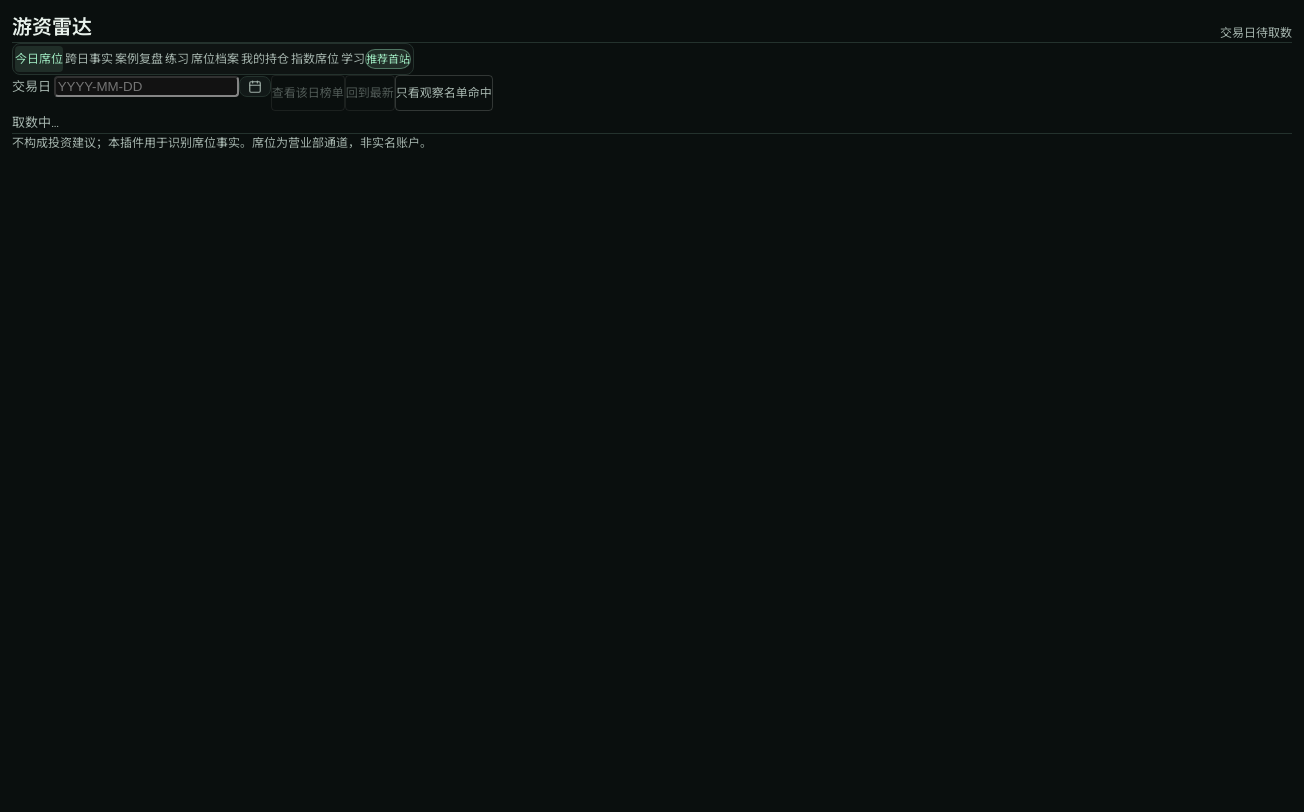
it: YouziPage · 练习（Y4-03/Y4-04） › ★ Y4-04 复盘练习只挑已披露 D1/D2/D5 的样例，并报出筛掉了多少条
The width and height of the screenshot is (1304, 812).
Click the button titled "用真实披露事实做识别与复盘练习" at (177, 59), box [165, 46, 189, 72]
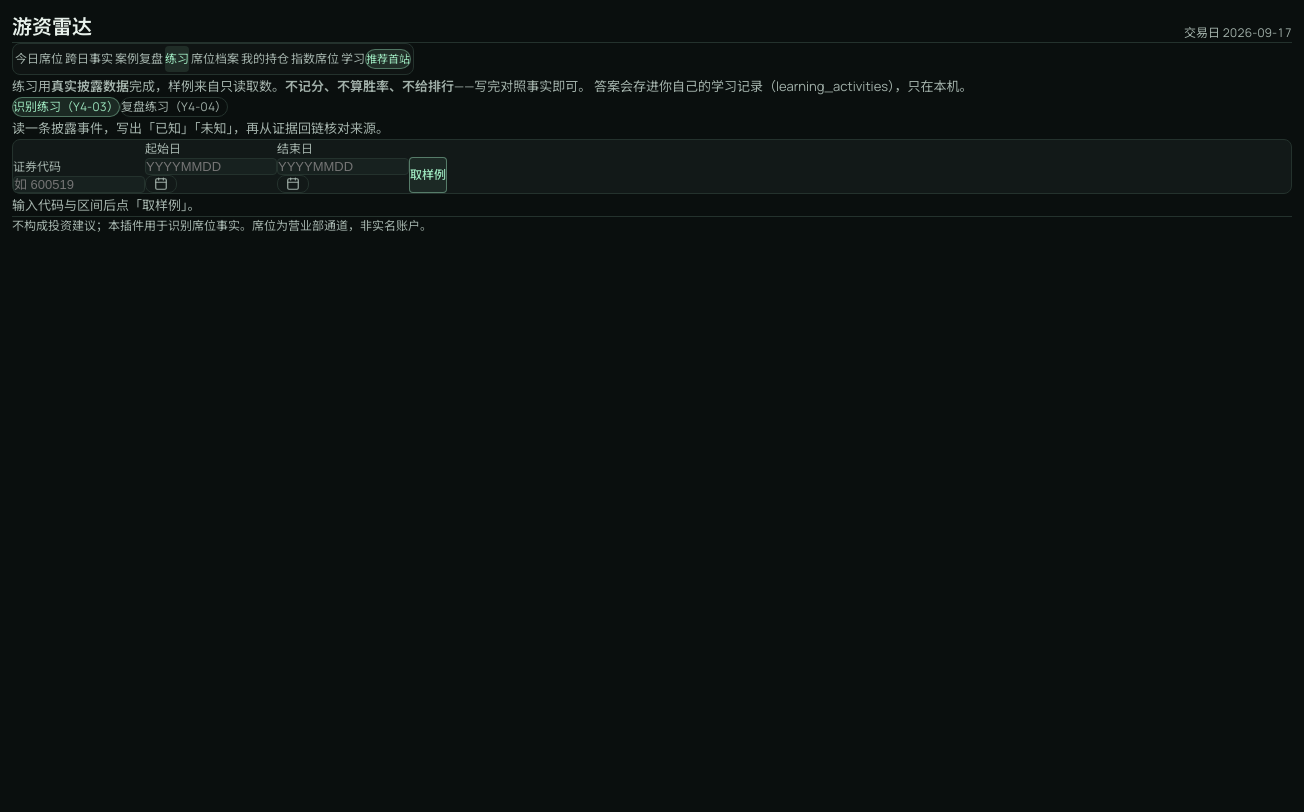
Expected: the button "取样例" is shown, [409, 157, 447, 193]
Type "600519" into the field with placeholder "如 600519" at (79, 185), box [13, 176, 145, 193]
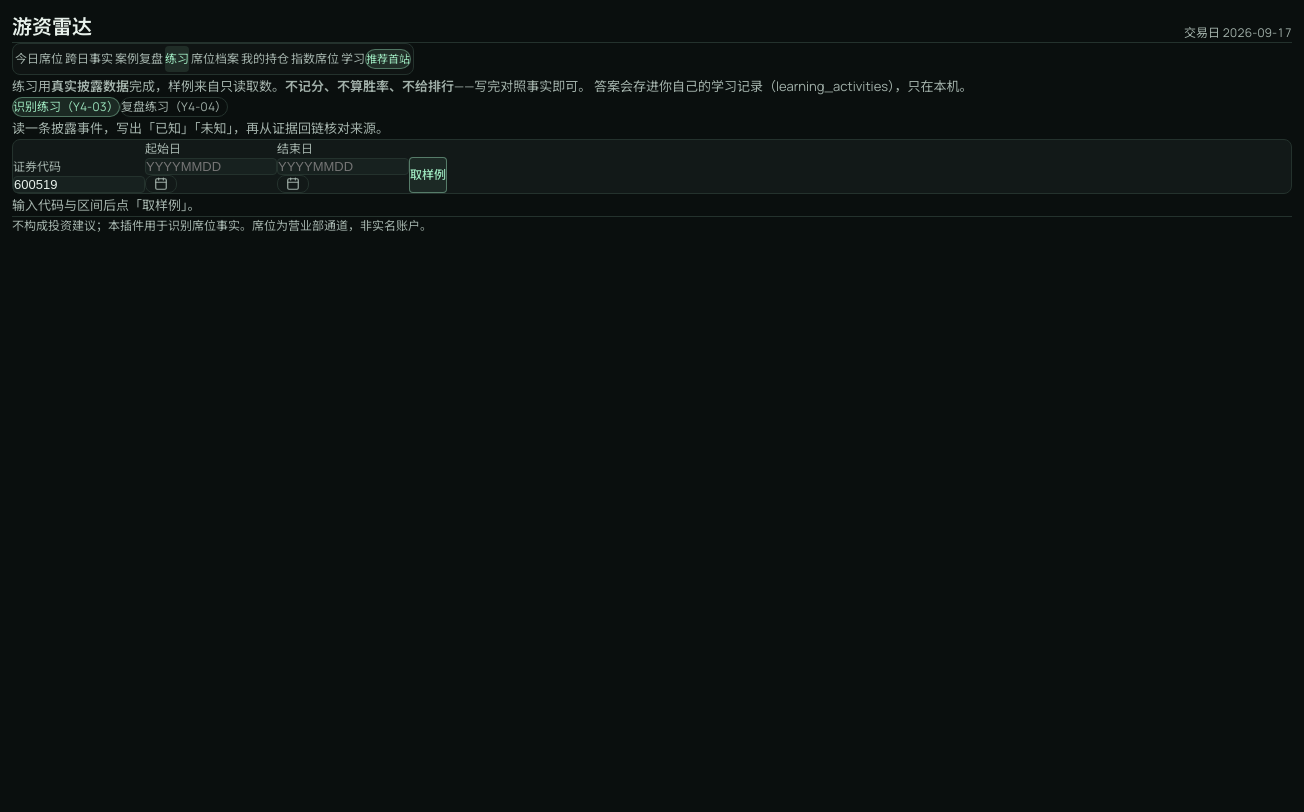
Type "20260907" into the field with placeholder "YYYYMMDD" at (211, 167), box [145, 158, 277, 175]
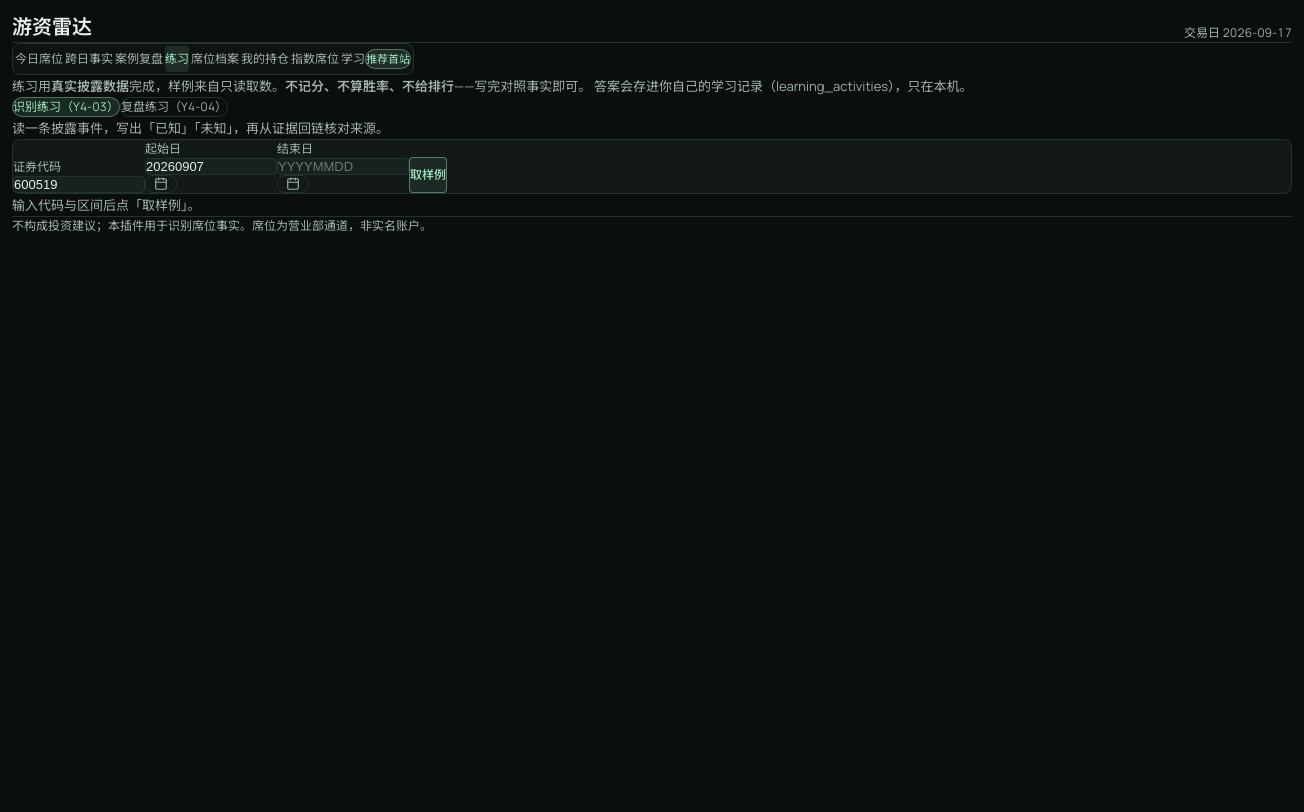
Type "20260917" into the field with placeholder "YYYYMMDD" at (343, 167), box [277, 158, 409, 175]
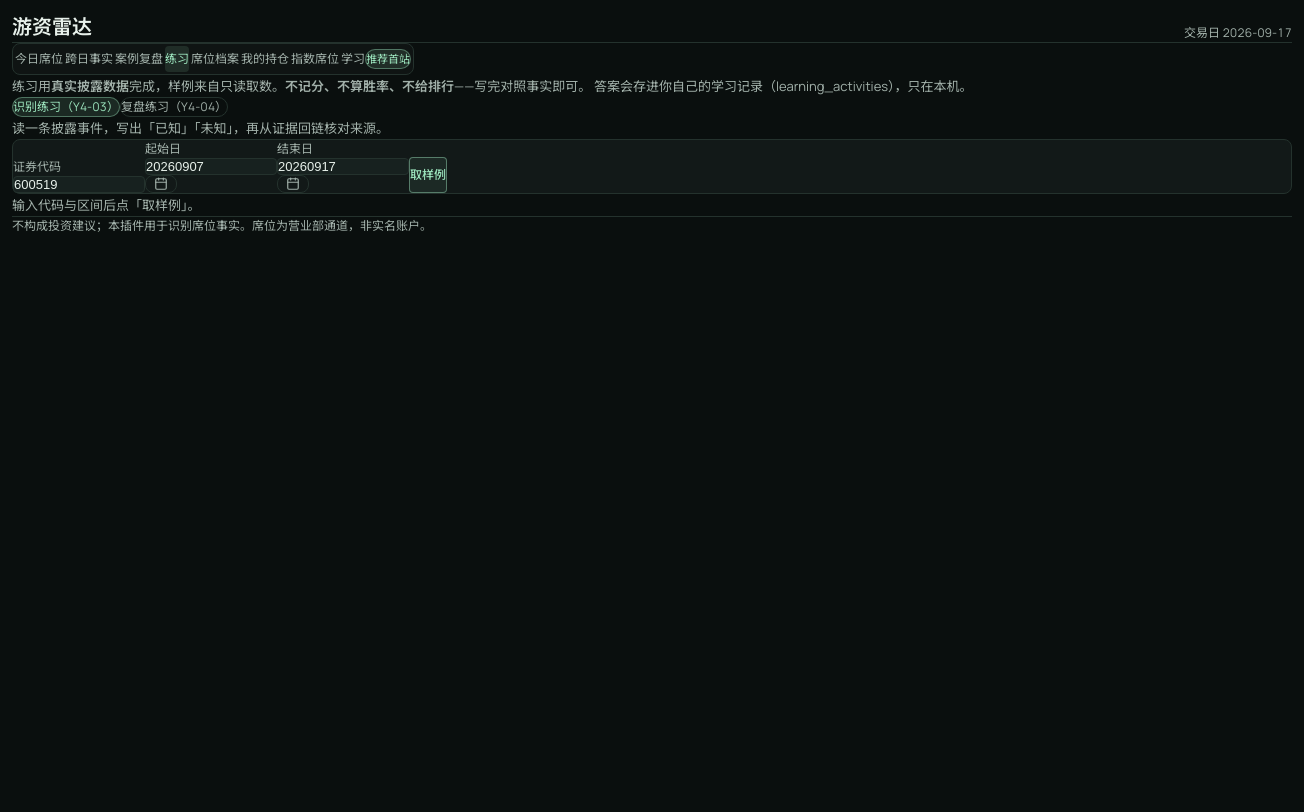
Click the button "取样例" at (428, 175), box [409, 157, 447, 193]
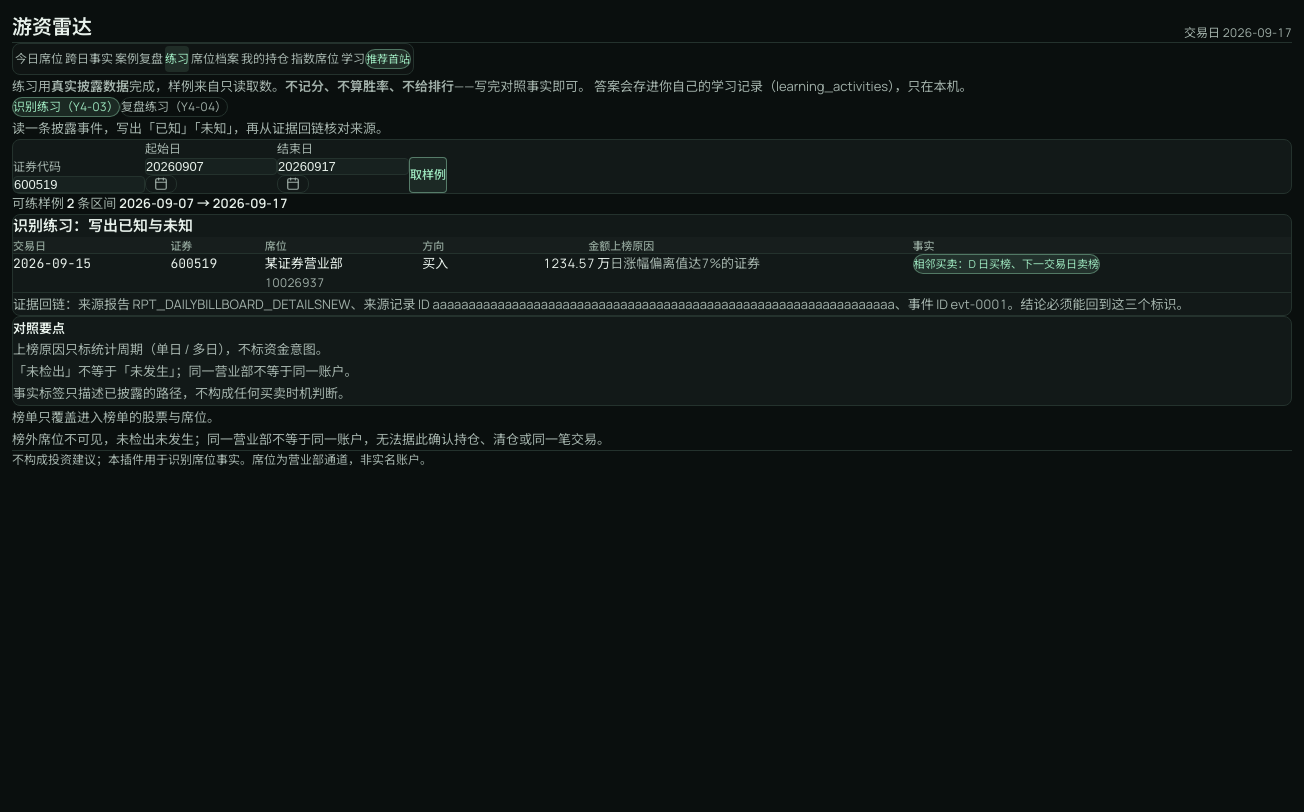
Click the button "复盘练习（Y4-04）" at (174, 107), box [120, 97, 228, 117]
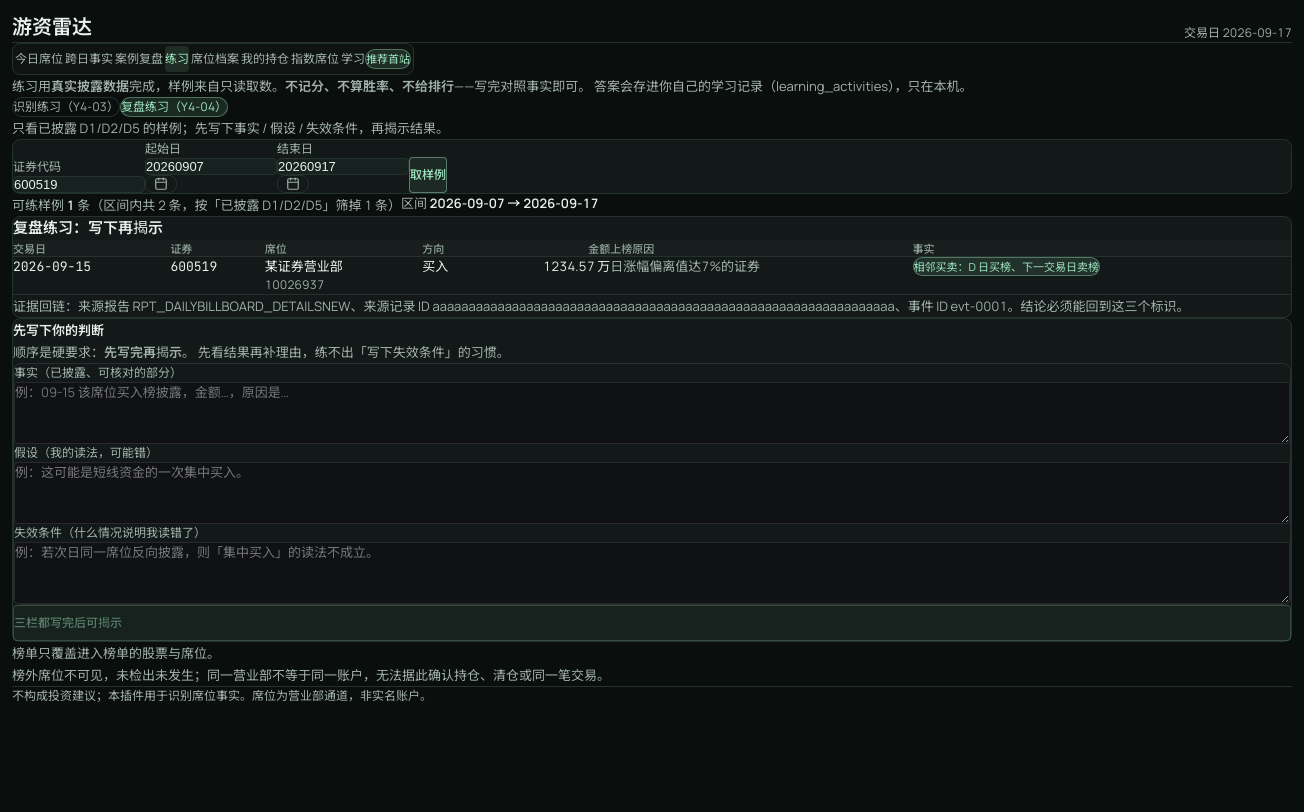
Expected: the element with test id "practice-sample-count" is shown, [12, 194, 401, 216]
Expected: the element with test id "practice-sample-count" shows "1", [67, 196, 75, 214]
Expected: the text "（区间内共 2 条，按「已披露 D1/D2/D5」筛掉 1 条）" is shown, [90, 196, 401, 214]
